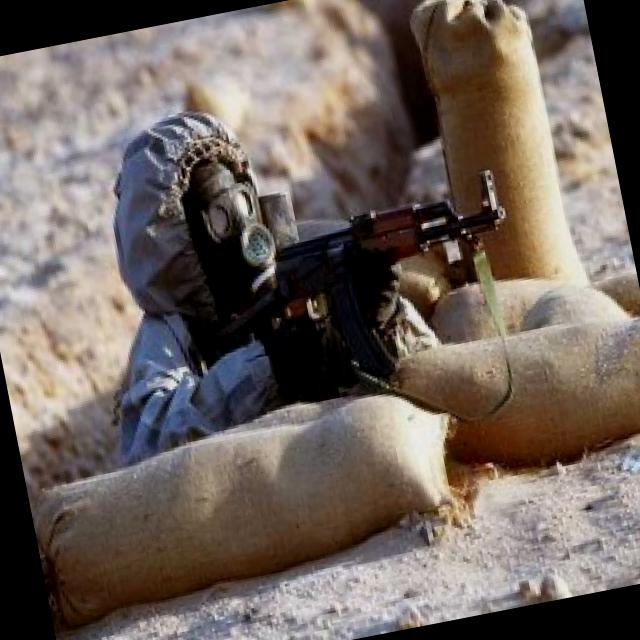long weapon: (260, 156, 540, 398)
